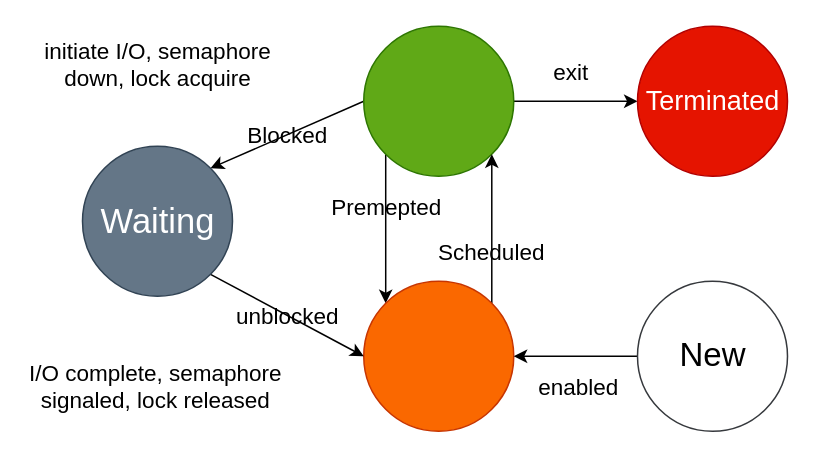
This 813x458 diagram has some shape labels left out. Here are the shapes that lost their labels. From the top down, the centre of each, then its label:
At (438,100): "Running".
At (438,355): "Ready".
